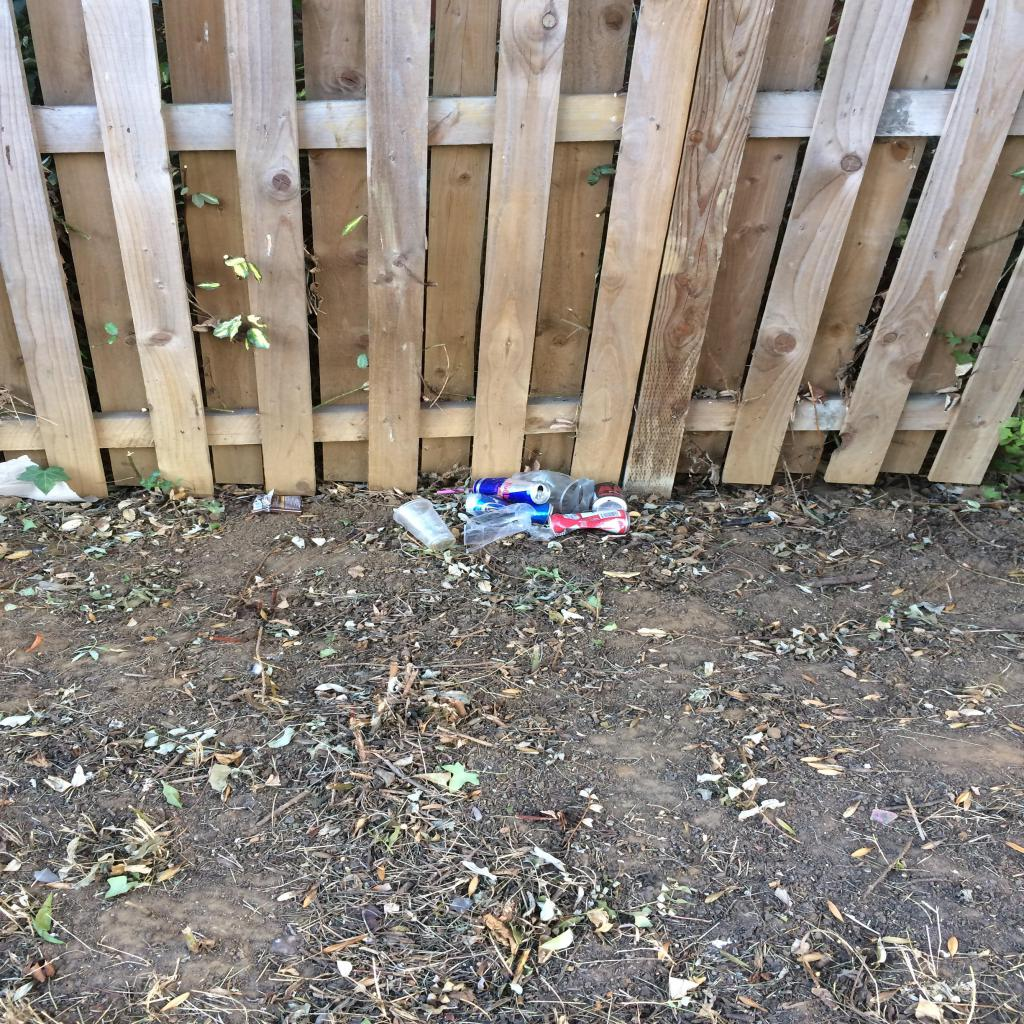Aluminium foil: (254, 494, 270, 507)
Disposable plastic cup: (393, 498, 456, 550), (512, 470, 578, 514)
Drink can: (466, 493, 554, 526), (542, 510, 630, 538), (472, 477, 550, 505), (591, 482, 627, 512)
Other carton: (252, 489, 302, 515)
Other plastic wrapper: (464, 503, 554, 553), (566, 478, 594, 514)
Pop tab: (542, 524, 551, 528)
Unlabeled litter: (1, 455, 99, 503), (870, 809, 898, 824), (438, 488, 472, 494)
